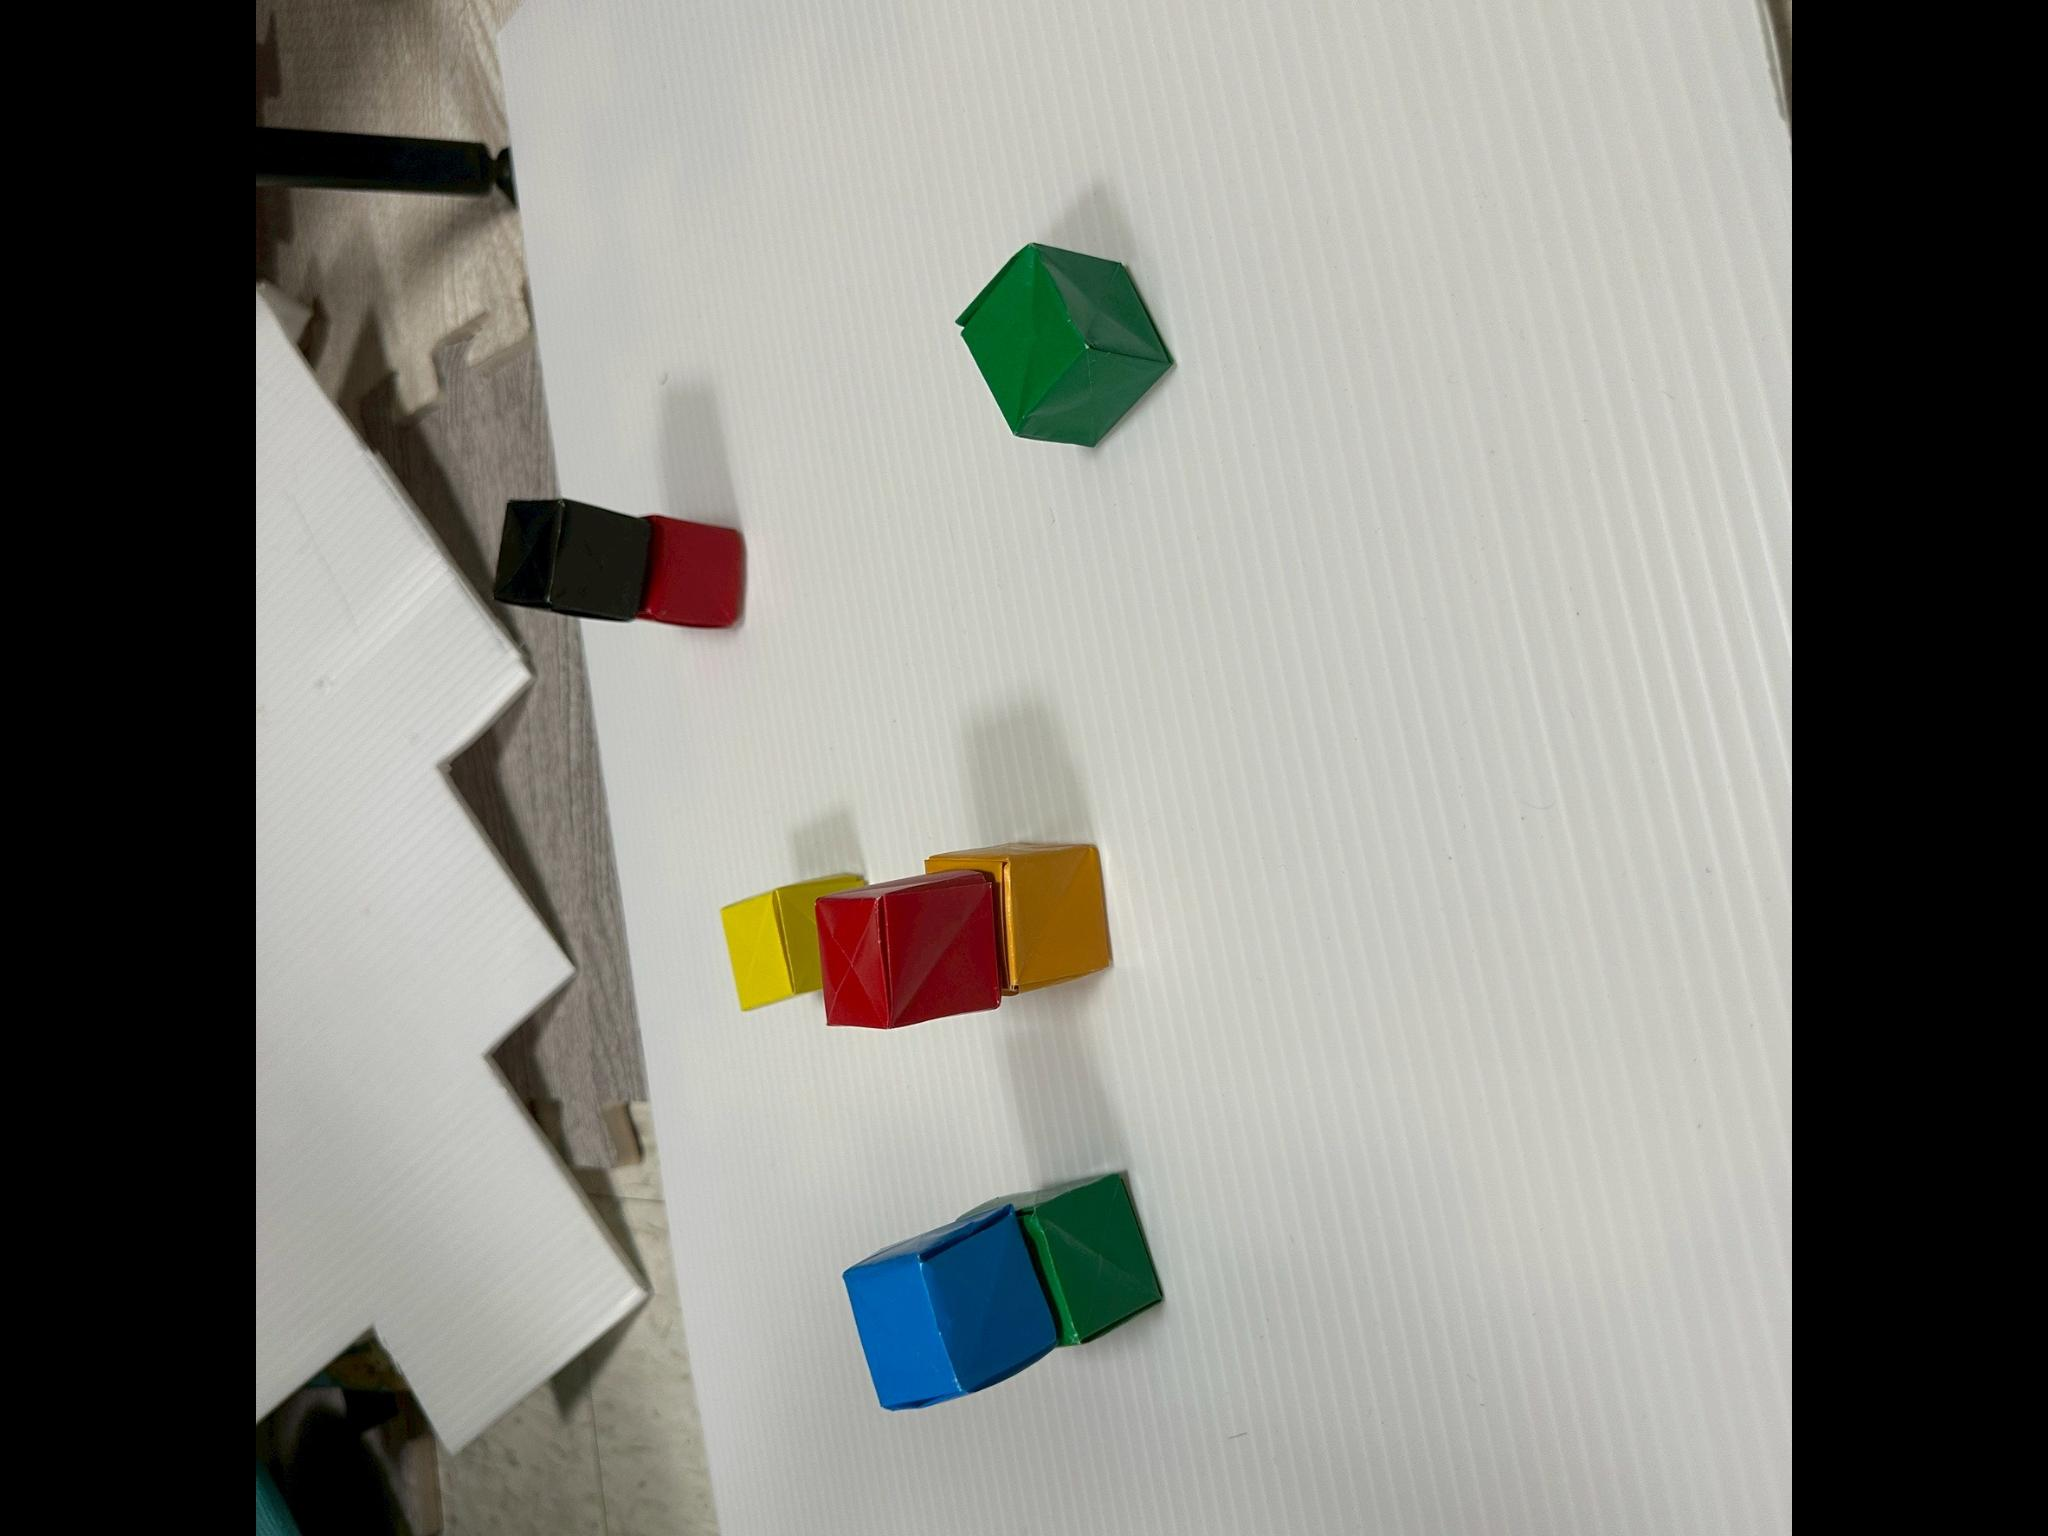cube: (843, 1199, 1059, 1409), (959, 244, 1172, 447), (955, 1173, 1161, 1346), (816, 870, 1005, 1028), (924, 844, 1111, 994), (721, 871, 863, 1008), (495, 499, 653, 621), (637, 515, 743, 629)
